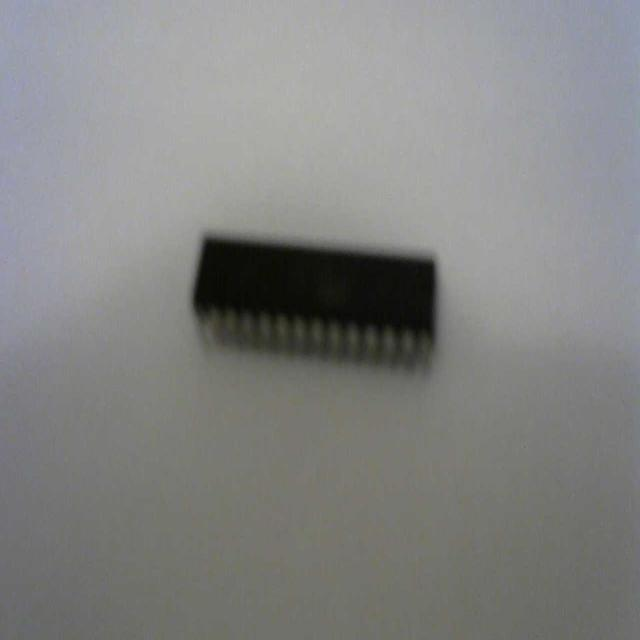atmega: (189, 227, 439, 375)
